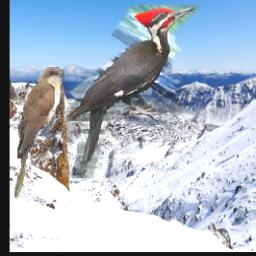Cuckoo: (13, 67, 64, 199)
Woodpecker: (65, 5, 197, 178)
